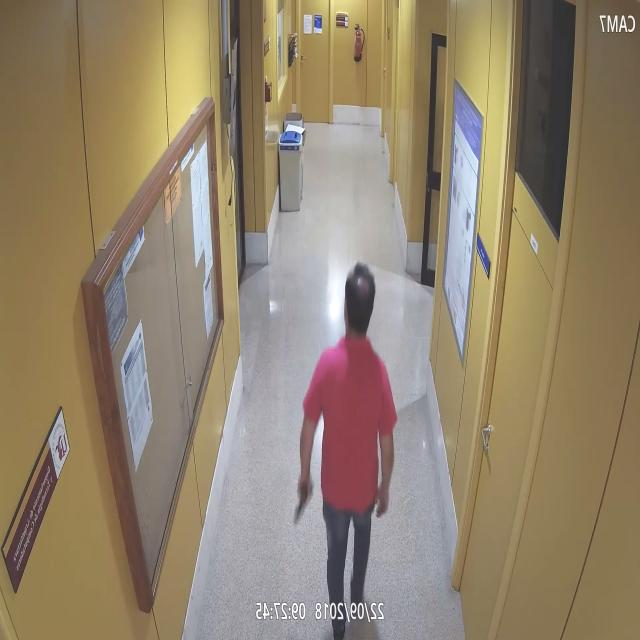pistol: (292, 472, 315, 526)
